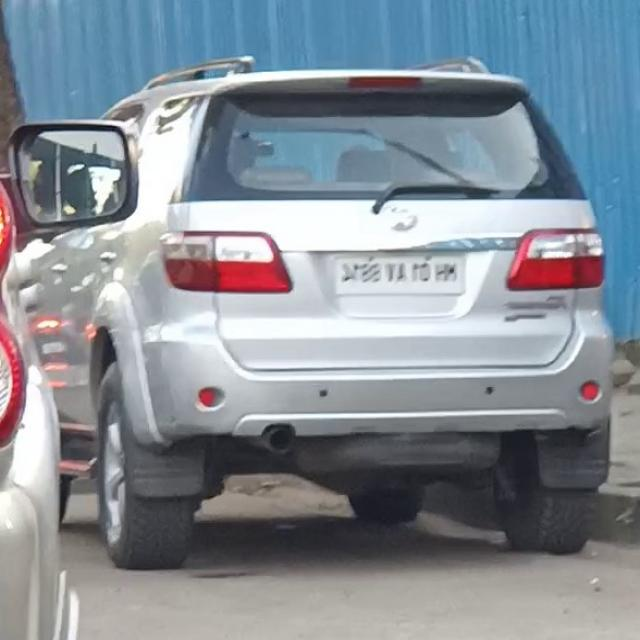license_plate: (327, 251, 469, 302)
